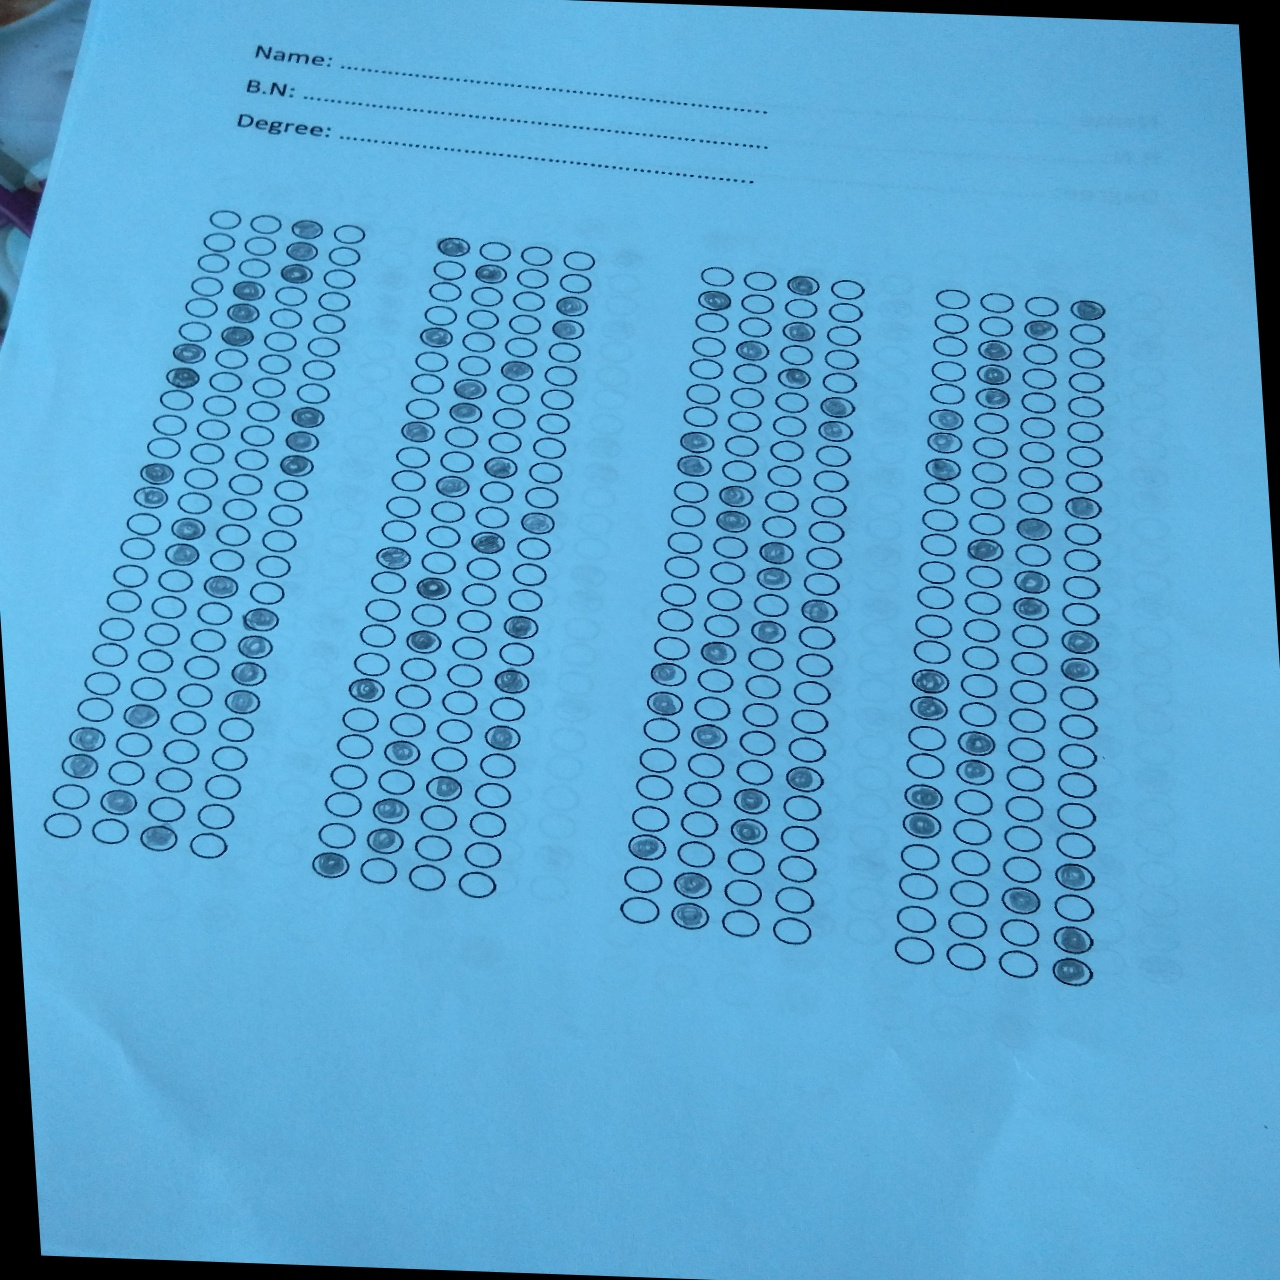not-c: (772, 884, 817, 915), (617, 896, 662, 926), (789, 706, 831, 738), (897, 870, 940, 901), (769, 915, 813, 946), (720, 878, 764, 908), (775, 853, 819, 884), (898, 842, 942, 872), (945, 910, 989, 940), (998, 917, 1042, 947), (417, 803, 459, 835), (471, 781, 513, 812), (777, 823, 819, 855), (896, 904, 938, 935), (334, 731, 377, 762), (724, 845, 768, 876), (947, 878, 990, 908), (719, 908, 763, 938), (942, 941, 987, 971), (622, 864, 663, 896), (145, 794, 188, 824), (89, 816, 131, 846), (456, 869, 498, 899), (328, 762, 370, 792), (386, 709, 428, 740), (629, 803, 672, 833), (678, 809, 720, 839), (676, 839, 719, 870), (1001, 855, 1043, 885), (949, 847, 992, 878), (406, 863, 449, 892), (892, 935, 935, 965), (1051, 893, 1095, 922), (188, 831, 229, 862), (315, 821, 356, 851), (358, 856, 399, 886), (486, 694, 527, 724), (634, 772, 675, 803), (781, 794, 822, 824), (787, 734, 828, 764), (462, 840, 504, 870), (467, 810, 509, 839), (321, 791, 363, 821), (374, 768, 416, 797), (338, 704, 380, 734), (958, 670, 1000, 700), (1007, 704, 1049, 734), (956, 700, 999, 729), (1055, 799, 1097, 829), (1054, 831, 1096, 860), (998, 949, 1040, 979), (42, 811, 83, 840), (50, 782, 91, 811), (411, 833, 452, 863), (433, 716, 474, 745), (440, 688, 481, 717), (791, 678, 832, 707), (685, 750, 726, 779), (906, 723, 947, 753), (1002, 824, 1043, 853), (476, 753, 518, 781), (428, 745, 470, 774), (444, 662, 486, 690), (449, 634, 491, 662), (495, 640, 537, 668), (407, 600, 449, 628), (503, 587, 545, 615), (368, 568, 410, 597), (417, 549, 459, 577), (461, 554, 503, 583), (1007, 678, 1049, 706), (904, 753, 946, 781), (1005, 735, 1047, 763), (1055, 771, 1097, 799), (951, 817, 993, 845), (740, 700, 779, 729), (692, 694, 731, 723), (113, 730, 154, 758), (154, 765, 195, 794), (350, 649, 392, 678), (358, 622, 399, 651), (452, 607, 493, 635), (508, 560, 549, 588), (802, 544, 843, 572), (801, 570, 842, 598), (736, 729, 777, 757), (733, 757, 774, 785), (682, 779, 723, 808), (1058, 683, 1099, 712), (1058, 712, 1099, 740), (1005, 764, 1046, 792), (1056, 743, 1097, 771), (1005, 794, 1046, 822), (953, 788, 994, 816), (362, 595, 404, 622), (699, 613, 741, 640), (118, 535, 158, 563), (161, 737, 200, 765), (196, 803, 236, 831), (652, 634, 692, 662), (743, 672, 783, 700), (695, 667, 735, 695), (209, 745, 250, 772), (203, 774, 244, 801), (105, 760, 147, 787), (392, 683, 433, 710), (458, 581, 499, 608), (520, 484, 561, 511), (828, 275, 869, 302), (661, 554, 702, 581), (750, 591, 791, 618), (636, 745, 678, 772), (915, 559, 956, 586), (215, 520, 253, 549), (254, 552, 293, 580), (149, 593, 188, 621), (794, 652, 836, 678), (207, 547, 247, 574), (247, 579, 287, 606), (182, 654, 222, 681), (168, 709, 207, 736), (216, 716, 256, 743), (397, 655, 437, 682), (484, 428, 524, 455), (402, 395, 442, 422), (665, 529, 704, 556), (796, 624, 836, 651), (1062, 520, 1102, 547), (964, 590, 1003, 617), (914, 584, 954, 611), (527, 435, 568, 461), (805, 519, 846, 545), (707, 560, 748, 586), (709, 535, 750, 560), (658, 583, 699, 608), (703, 587, 744, 613), (745, 646, 787, 672), (641, 717, 682, 743), (259, 527, 298, 554), (156, 567, 195, 594), (188, 627, 226, 654), (96, 615, 135, 642), (136, 647, 175, 674), (75, 696, 114, 723), (472, 503, 511, 530), (525, 459, 564, 486), (967, 510, 1006, 537), (962, 617, 1001, 644), (1010, 624, 1049, 651), (1010, 651, 1049, 678), (195, 599, 234, 625), (175, 682, 215, 708), (379, 518, 418, 544), (427, 499, 467, 525), (436, 449, 476, 475), (393, 444, 433, 470), (488, 406, 527, 431), (406, 372, 445, 397), (536, 386, 576, 411), (420, 302, 459, 328), (554, 271, 594, 297), (692, 309, 731, 335), (655, 607, 695, 633), (1064, 444, 1104, 470), (918, 532, 958, 558), (1061, 602, 1101, 628), (913, 613, 953, 639), (912, 639, 952, 665), (960, 645, 1000, 670), (111, 561, 149, 588), (90, 640, 128, 667), (129, 675, 166, 702), (83, 670, 121, 697), (964, 564, 1005, 588), (150, 413, 189, 438), (188, 440, 226, 465), (124, 511, 163, 537), (104, 588, 143, 614), (142, 621, 181, 647), (383, 495, 422, 520), (389, 468, 428, 493), (442, 424, 481, 450), (533, 411, 572, 437), (467, 284, 505, 309), (516, 243, 554, 268), (727, 384, 765, 410), (1065, 420, 1104, 445), (920, 508, 959, 533), (1013, 543, 1051, 568), (1062, 574, 1101, 600), (195, 417, 234, 442), (475, 479, 515, 504), (411, 349, 451, 374), (452, 353, 492, 377), (543, 340, 583, 365), (501, 335, 540, 360), (429, 258, 469, 282), (512, 265, 552, 290), (738, 268, 778, 293), (736, 291, 776, 315), (824, 324, 864, 348), (764, 463, 804, 488), (809, 495, 849, 519), (930, 333, 969, 358), (930, 359, 969, 383), (1019, 366, 1058, 390), (1067, 321, 1107, 346), (1065, 346, 1105, 370), (1017, 415, 1057, 440), (1016, 441, 1056, 465), (515, 535, 551, 561), (978, 290, 1015, 315), (181, 467, 222, 490), (971, 410, 1012, 434), (238, 423, 277, 448), (230, 447, 268, 471), (220, 496, 259, 520), (265, 503, 304, 527), (504, 313, 543, 338), (559, 248, 598, 273), (697, 265, 736, 290), (729, 360, 768, 384), (777, 342, 816, 367), (821, 372, 859, 396), (769, 414, 808, 438), (813, 443, 852, 468), (810, 469, 849, 493), (758, 515, 797, 539), (934, 287, 973, 312), (933, 311, 972, 335), (971, 435, 1009, 459), (1017, 465, 1056, 490), (1015, 490, 1054, 515), (1064, 470, 1103, 495), (1062, 549, 1101, 573), (311, 311, 347, 336), (256, 352, 292, 377), (144, 436, 184, 459), (173, 491, 213, 515), (462, 307, 502, 331), (508, 290, 547, 313), (425, 279, 465, 302), (475, 239, 515, 263), (779, 297, 819, 320), (688, 334, 728, 358), (686, 358, 726, 381), (719, 459, 758, 483), (670, 481, 710, 504), (667, 505, 707, 529), (976, 314, 1016, 338), (1017, 390, 1057, 414), (1067, 372, 1107, 395), (1065, 395, 1105, 418), (331, 222, 368, 246), (271, 284, 308, 308), (272, 478, 309, 503), (828, 300, 865, 325), (722, 434, 760, 458), (762, 489, 799, 513), (1023, 293, 1061, 318), (971, 461, 1008, 485), (225, 472, 264, 496), (492, 382, 531, 406), (540, 365, 579, 388), (736, 315, 775, 339), (822, 348, 860, 372), (772, 390, 811, 414), (682, 382, 721, 406), (724, 409, 763, 433), (768, 440, 806, 463), (927, 382, 966, 406), (921, 481, 960, 504), (969, 486, 1008, 510), (326, 244, 362, 268), (200, 230, 237, 254), (236, 256, 272, 280), (300, 358, 336, 382), (245, 400, 281, 424), (424, 524, 461, 549), (250, 376, 287, 400), (458, 331, 496, 354), (681, 404, 719, 428), (1021, 342, 1058, 366), (241, 234, 278, 258), (195, 252, 231, 275), (321, 267, 358, 291), (261, 331, 298, 354), (188, 274, 224, 298), (176, 320, 212, 343), (158, 388, 195, 411), (202, 393, 238, 416), (268, 306, 302, 331), (182, 297, 219, 319), (207, 207, 243, 231), (247, 213, 282, 237), (316, 290, 352, 313), (295, 382, 331, 406), (213, 347, 248, 370), (207, 369, 243, 393), (306, 335, 341, 358)
taken-c: (1050, 924, 1097, 956), (999, 883, 1044, 915), (1050, 956, 1097, 988), (1051, 862, 1098, 893), (899, 809, 946, 840), (904, 692, 949, 722), (899, 782, 946, 811), (906, 666, 953, 695), (952, 728, 998, 757), (1056, 654, 1102, 683), (491, 666, 535, 696), (401, 627, 444, 658), (728, 816, 769, 847), (670, 869, 712, 900), (369, 797, 411, 828), (952, 758, 998, 787), (57, 751, 101, 781), (96, 788, 139, 817), (136, 824, 179, 853), (380, 738, 423, 768), (343, 676, 387, 706), (1012, 515, 1055, 544), (922, 404, 967, 433), (309, 850, 352, 879), (363, 826, 406, 856), (922, 428, 965, 457), (422, 774, 465, 802), (688, 722, 731, 750), (1058, 628, 1102, 656), (1009, 568, 1053, 597), (964, 535, 1007, 563), (920, 456, 964, 484), (234, 633, 275, 662), (731, 787, 772, 816), (1061, 495, 1105, 522), (1017, 316, 1062, 343), (499, 614, 542, 642), (414, 576, 456, 604), (647, 661, 689, 689), (783, 765, 825, 794), (481, 726, 524, 753), (1008, 595, 1051, 622), (241, 606, 282, 634), (468, 527, 509, 556), (431, 472, 472, 501), (625, 833, 666, 862), (668, 901, 709, 930), (974, 338, 1016, 365), (747, 619, 790, 645), (972, 361, 1015, 387), (517, 510, 558, 537), (799, 597, 840, 624), (697, 638, 738, 665), (644, 689, 685, 716), (1067, 298, 1109, 324), (220, 688, 260, 715), (67, 726, 107, 753), (373, 546, 413, 573), (479, 454, 519, 481), (496, 358, 536, 384), (971, 386, 1012, 411), (121, 702, 159, 729), (200, 574, 240, 600), (445, 400, 485, 425), (731, 338, 771, 363), (774, 366, 813, 392), (815, 418, 855, 444), (678, 430, 717, 456), (713, 509, 753, 535), (231, 660, 268, 687), (450, 376, 488, 403), (417, 325, 455, 352), (224, 301, 263, 327), (277, 452, 315, 478), (168, 516, 206, 542), (397, 418, 436, 444), (549, 316, 587, 342), (553, 294, 592, 320), (434, 234, 472, 260), (674, 454, 713, 479), (754, 565, 792, 591), (229, 278, 268, 302), (779, 319, 819, 343), (715, 483, 753, 509), (281, 239, 320, 264), (277, 260, 315, 285), (138, 462, 177, 486), (162, 542, 200, 566), (474, 261, 512, 286), (783, 273, 822, 298), (695, 287, 734, 312), (756, 540, 795, 565), (287, 216, 325, 240), (218, 324, 256, 348), (132, 485, 170, 510), (819, 396, 857, 421), (169, 341, 207, 365), (284, 430, 322, 454), (164, 365, 200, 389), (287, 406, 325, 429)
